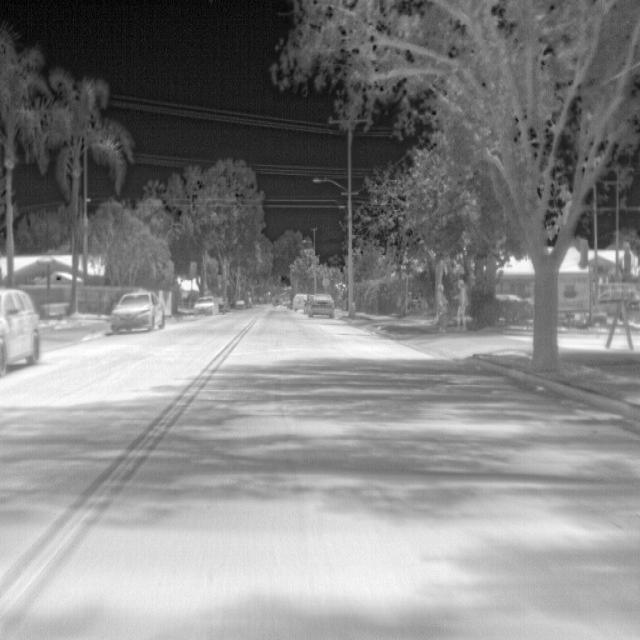Pedestrian: (451, 277, 471, 333), (434, 282, 450, 336)
Vehicle: (0, 285, 43, 376), (108, 287, 167, 335), (305, 291, 335, 320), (192, 294, 221, 318)
